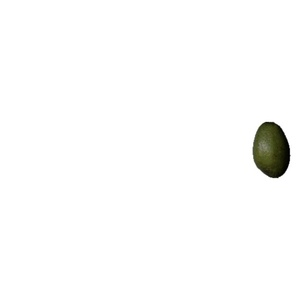abacate: (252, 120, 291, 180)
